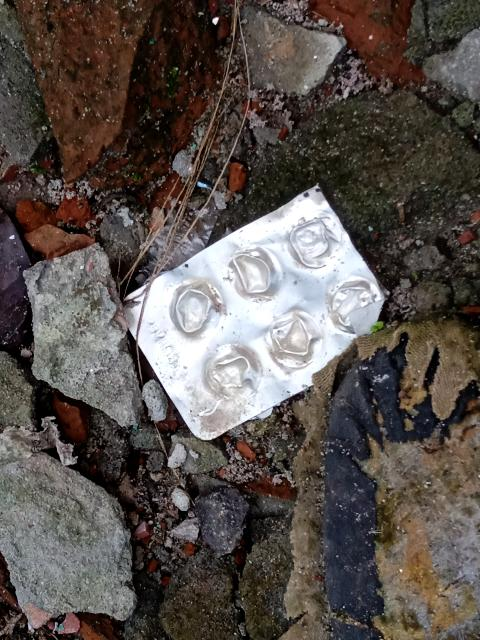medicine: (110, 183, 407, 451)
